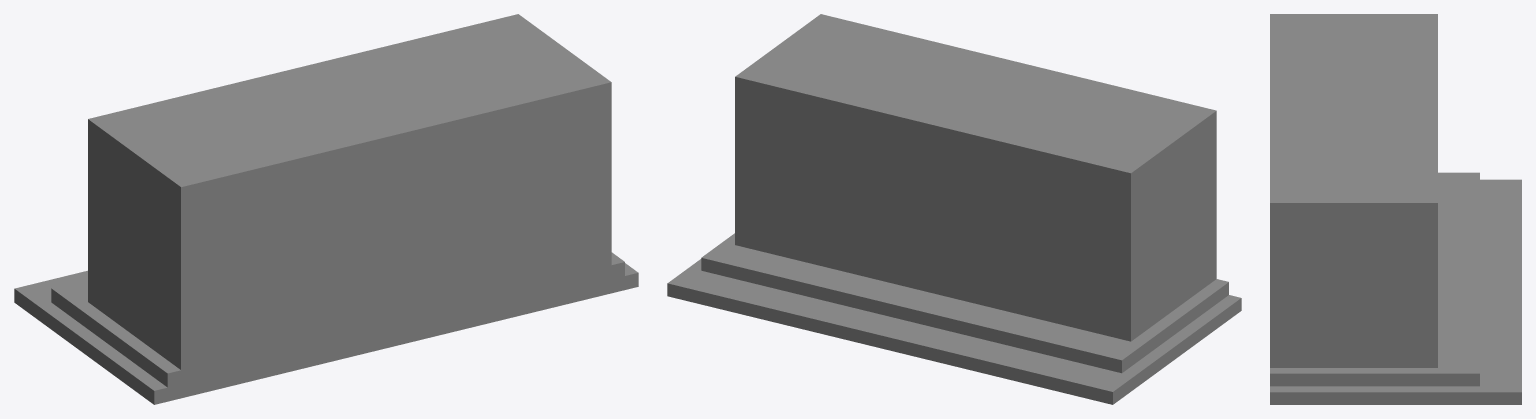
File: DisplayStandLong.fbx
3 views of the same model, side by side, from view 1: azimuth 30°, elevation 25°; view 2: azimuth 150°, elevation 25°; view 3: azimuth 270°, elevation 25° (orthographic). The views are drawn at different scales.
Parts seen in each view (by area): view 1: generated; view 2: generated; view 3: generated.
Part boxes in pixels (x1=…): generated: x1=14, y1=14, x2=638, y2=404; generated: x1=667, y1=14, x2=1241, y2=404; generated: x1=1270, y1=14, x2=1521, y2=404.
Bounding box in the file's own units: 36 × 15 × 18.
